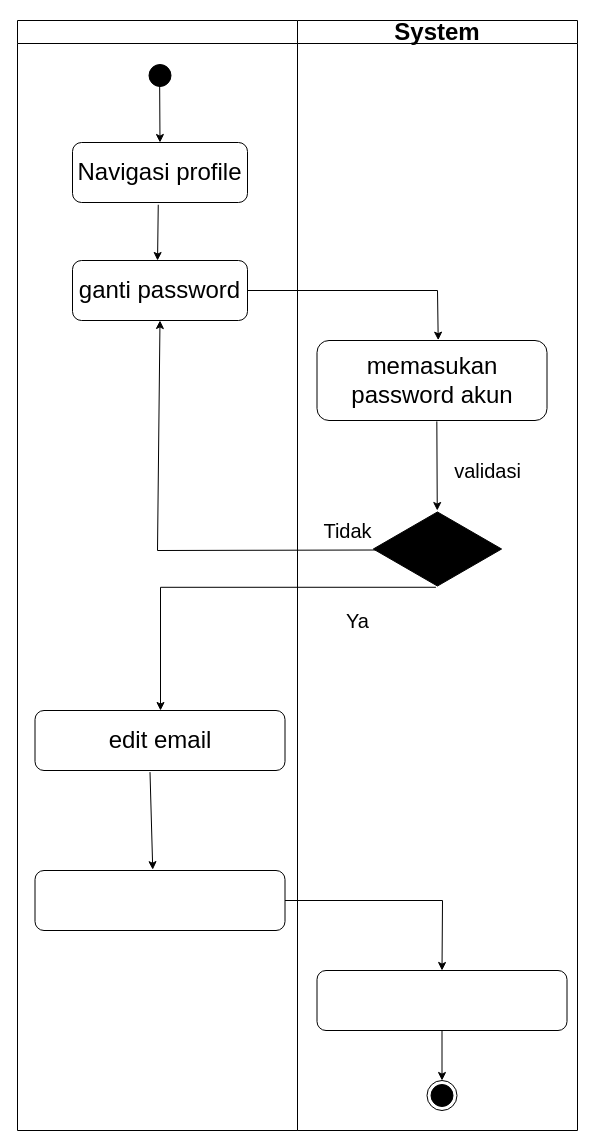
Some shapes in this 595 by 1148 pixel diagram are drawn without their labels. Each missing label, with the box of its shape:
email baru tersimpan kedalam database: (316, 970, 567, 1030)
klik tombol update email: (34, 870, 285, 930)
user: (16, 20, 298, 1130)
